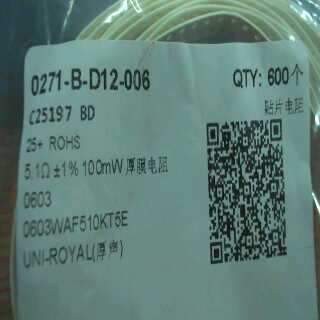5.1R: (20, 158, 52, 184)
